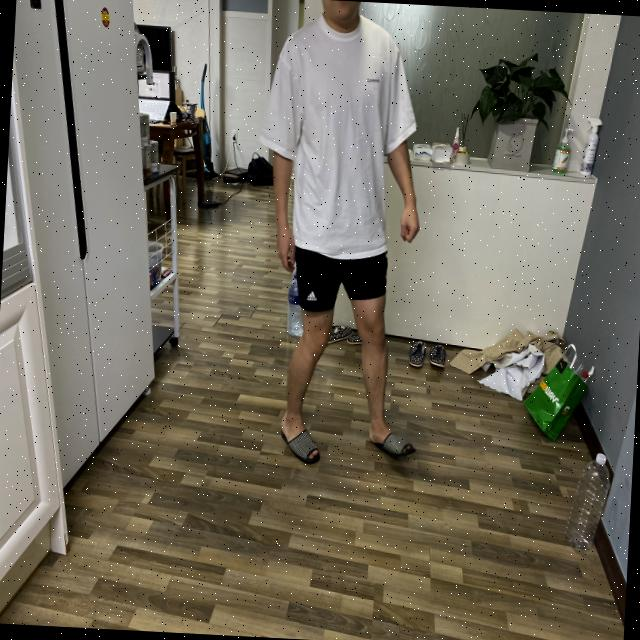no-boots: (360, 418, 434, 473), (270, 407, 330, 470)
